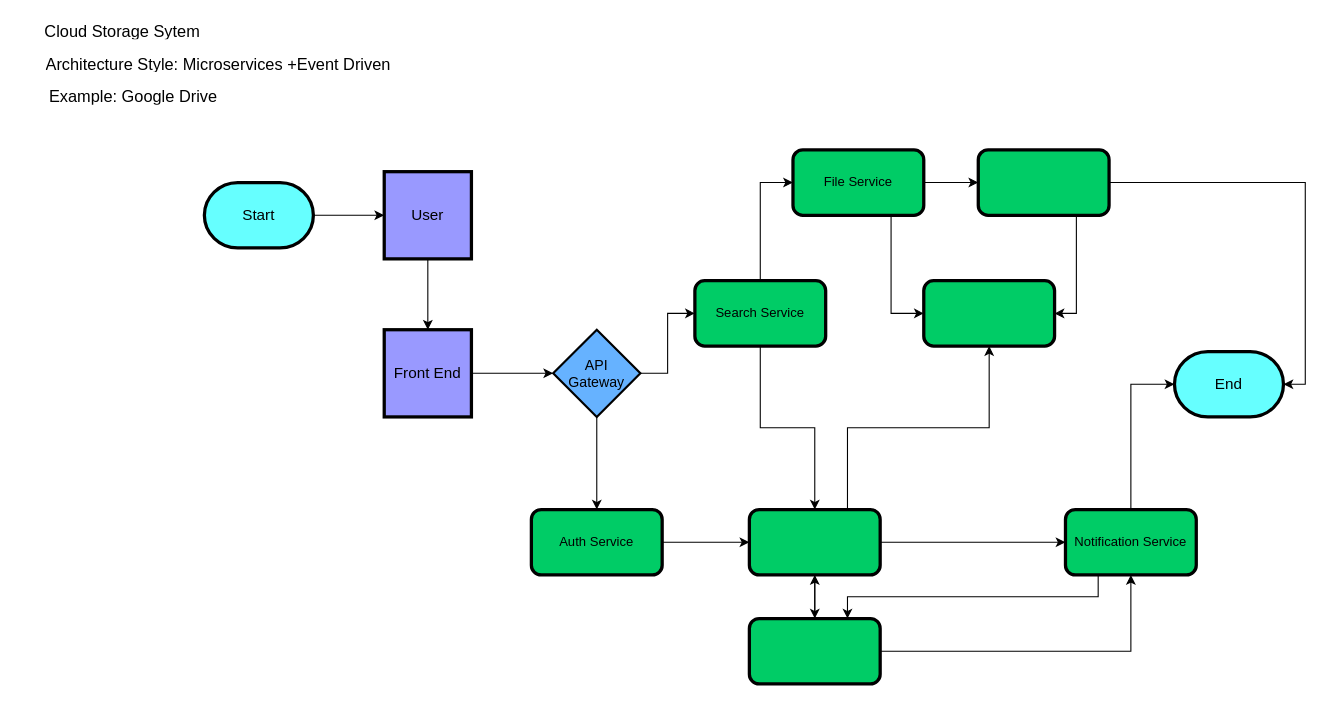
Image size: 1333x704. Some labels were removed from this diagram. The box of each missing label's shape, as (x1, y1, x2, y2) in pixels:
Metadata Service: (747, 507, 881, 576)
Revision Service: (976, 148, 1110, 216)
Sharing Service: (747, 616, 881, 685)
Sync Service: (922, 278, 1056, 347)
